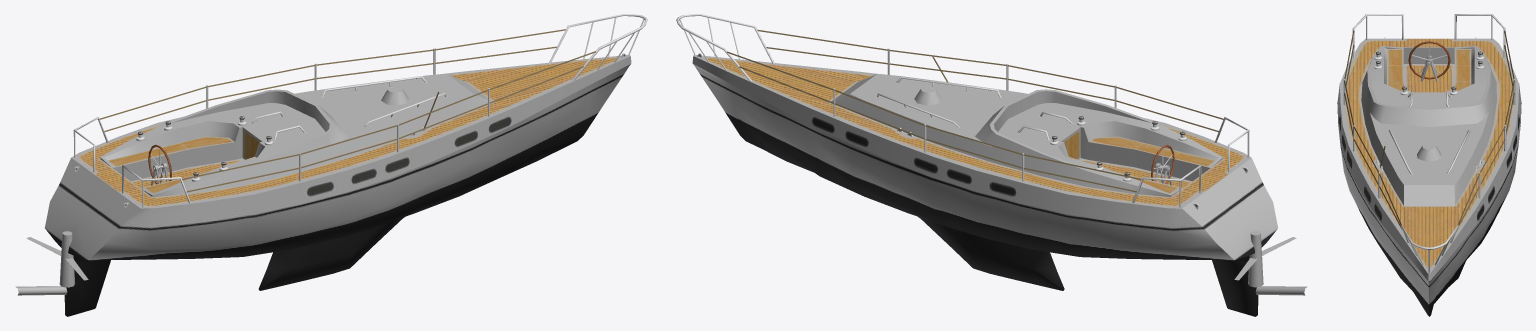
Rendered from sailboat.glb.
3 renders of one model, left to right at view 1: azimuth 30°, elevation 25°; view 2: azimuth 150°, elevation 25°; view 3: azimuth 270°, elevation 25°, orthographic. The views are drawn at different scales.
Parts seen in each view (by area): view 1: hull, mast, boom; view 2: hull, mast, boom; view 3: hull.
Part boxes in pixels (bbox=[...]): hull: bbox=[45, 14, 647, 316]; mast: bbox=[26, 231, 88, 287]; boom: bbox=[15, 286, 67, 295]; hull: bbox=[676, 14, 1277, 316]; mast: bbox=[1234, 231, 1296, 287]; boom: bbox=[1255, 286, 1307, 295]; hull: bbox=[1337, 14, 1521, 316].
Bounding box in the file's own units: 12.9 × 3.54 × 3.56.
1 material, 1 textured.
